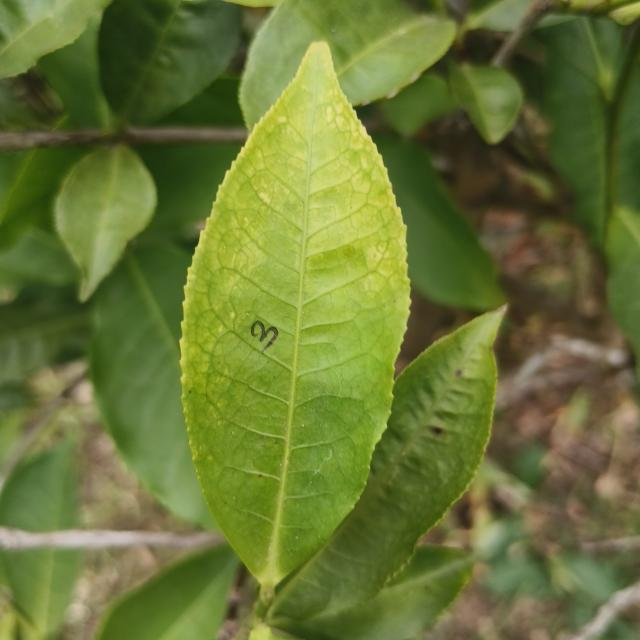Leaf: (180, 43, 410, 601), (272, 309, 504, 622), (90, 243, 215, 528), (240, 0, 455, 130), (373, 135, 505, 311), (280, 545, 472, 640), (98, 0, 241, 125), (55, 146, 156, 301), (96, 544, 240, 640), (0, 0, 110, 78), (0, 549, 81, 639), (0, 439, 78, 532), (450, 62, 523, 144), (605, 204, 640, 371)
